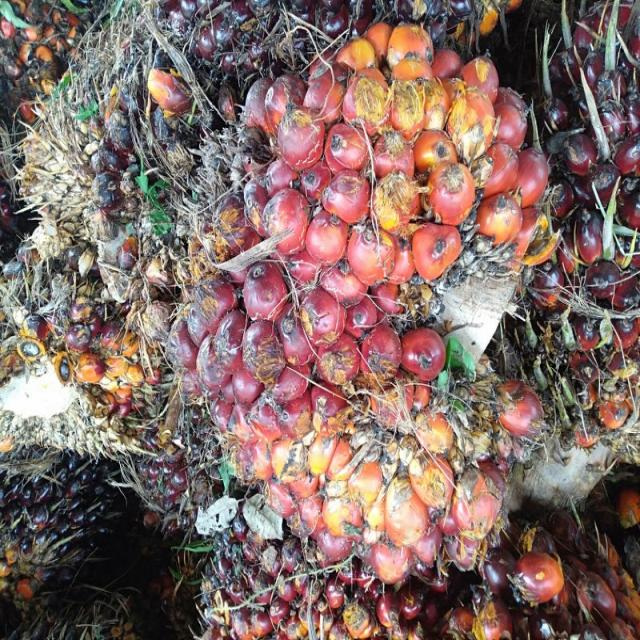fraksi 3: (124, 9, 614, 601)
